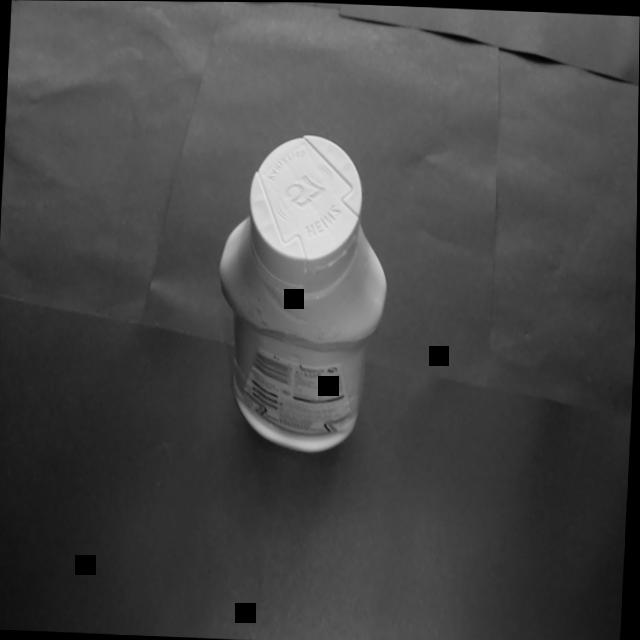Mayonnaise: (182, 104, 415, 482)
